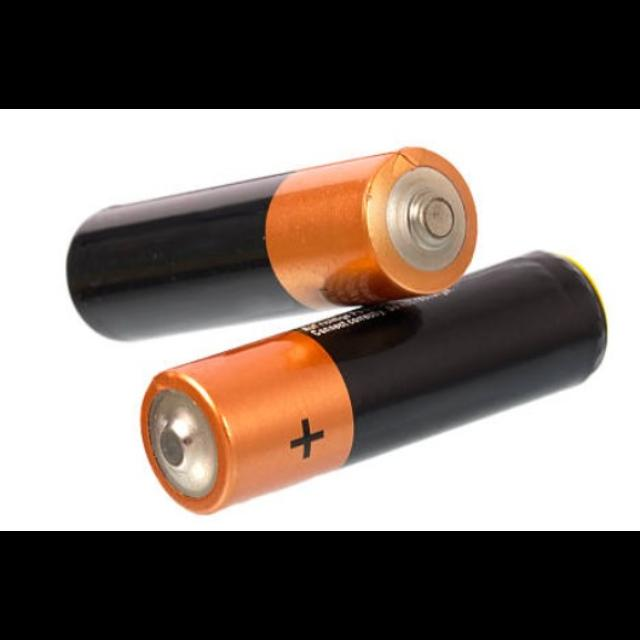Battery: (140, 252, 607, 514), (67, 147, 478, 339)
